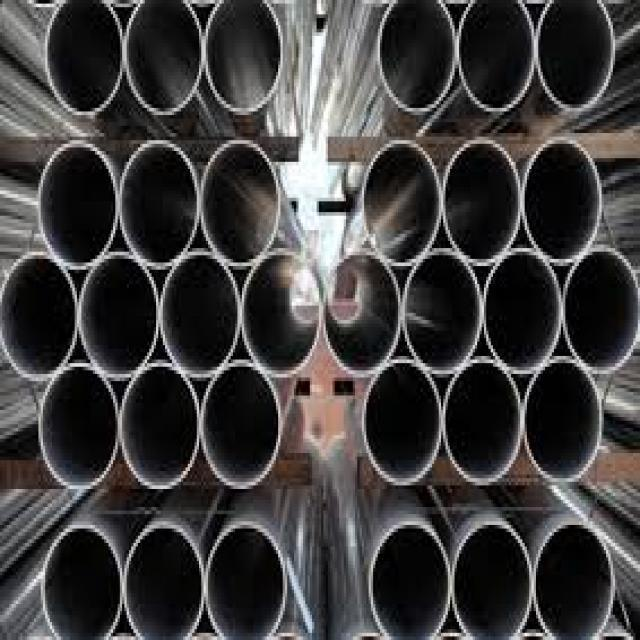pipe: (119, 367, 199, 490), (201, 367, 280, 490), (79, 254, 157, 378), (0, 253, 76, 380), (445, 364, 524, 485), (202, 140, 280, 262), (161, 255, 239, 377), (405, 252, 483, 374), (38, 368, 116, 489), (38, 144, 116, 264), (243, 254, 320, 374), (121, 141, 197, 262), (365, 364, 441, 485), (125, 523, 203, 640), (365, 143, 441, 262), (487, 252, 562, 372), (526, 142, 602, 259), (528, 364, 603, 482), (445, 142, 519, 259), (566, 251, 640, 368), (207, 0, 282, 114), (539, 0, 616, 110), (326, 255, 399, 371), (380, 0, 455, 112), (456, 527, 530, 640), (128, 0, 201, 114), (47, 0, 121, 112), (44, 531, 120, 640), (208, 530, 283, 640), (374, 528, 447, 640), (461, 0, 534, 110)
